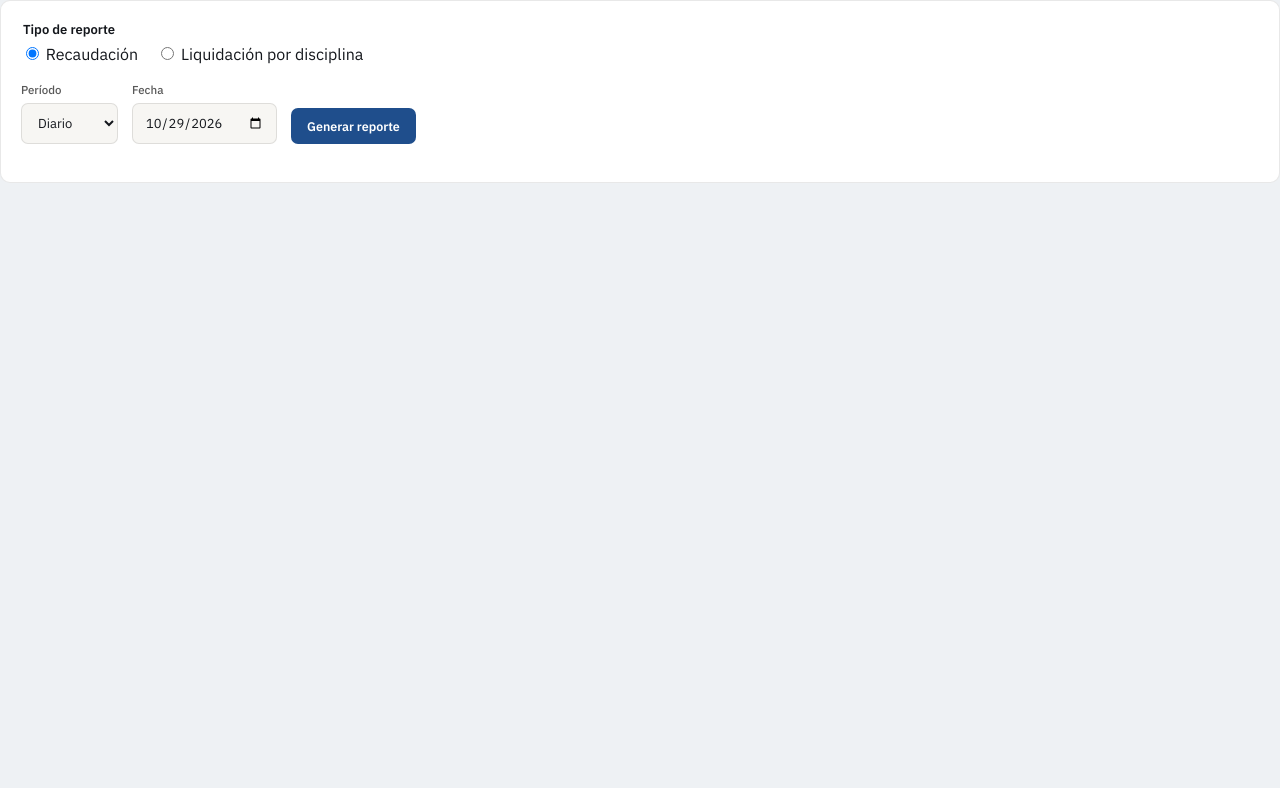
Test: ReportsView: revenue › asks for nothing until the report is generated, then shows the total and its breakdown
Step 1. Type "2026-10-05" into the date field labelled "Fecha" → (204, 124), box [132,103,277,144]
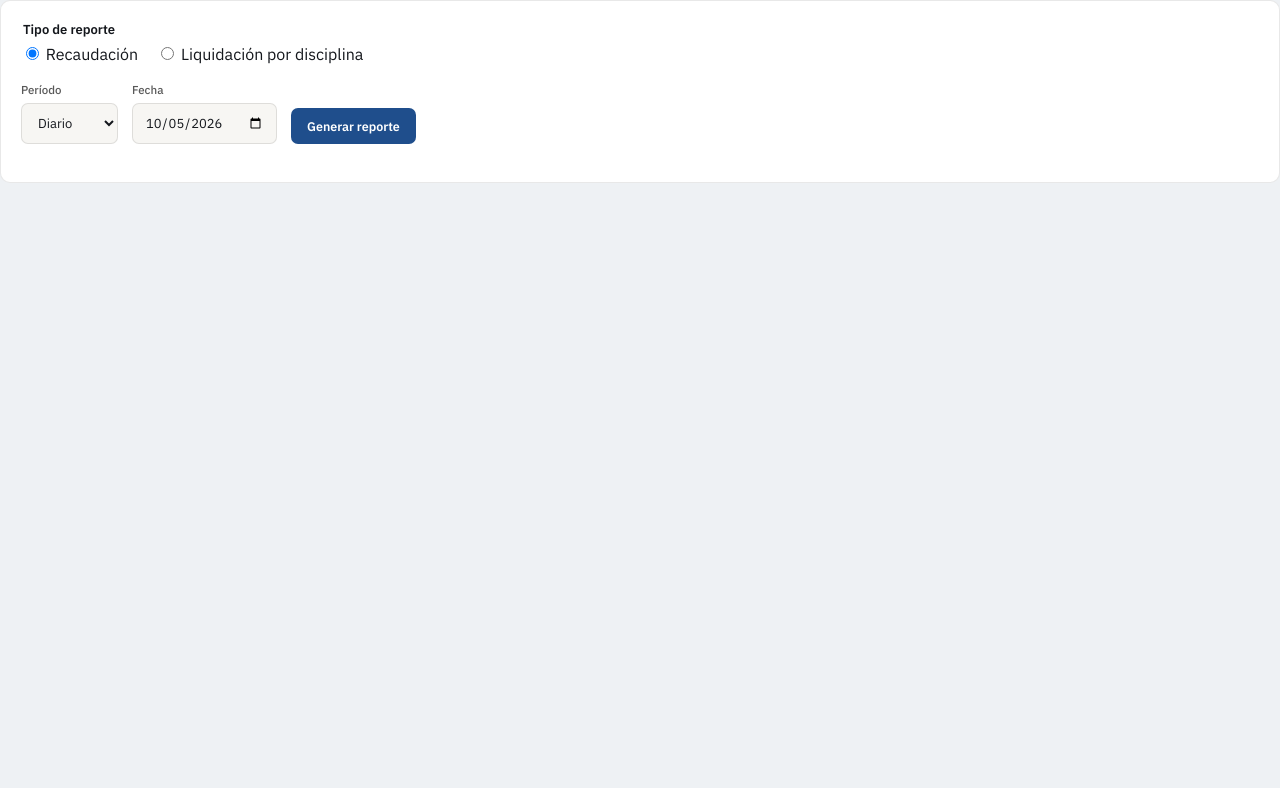
Step 2. Click the button "Generar reporte" → (353, 126), box [291,108,416,144]
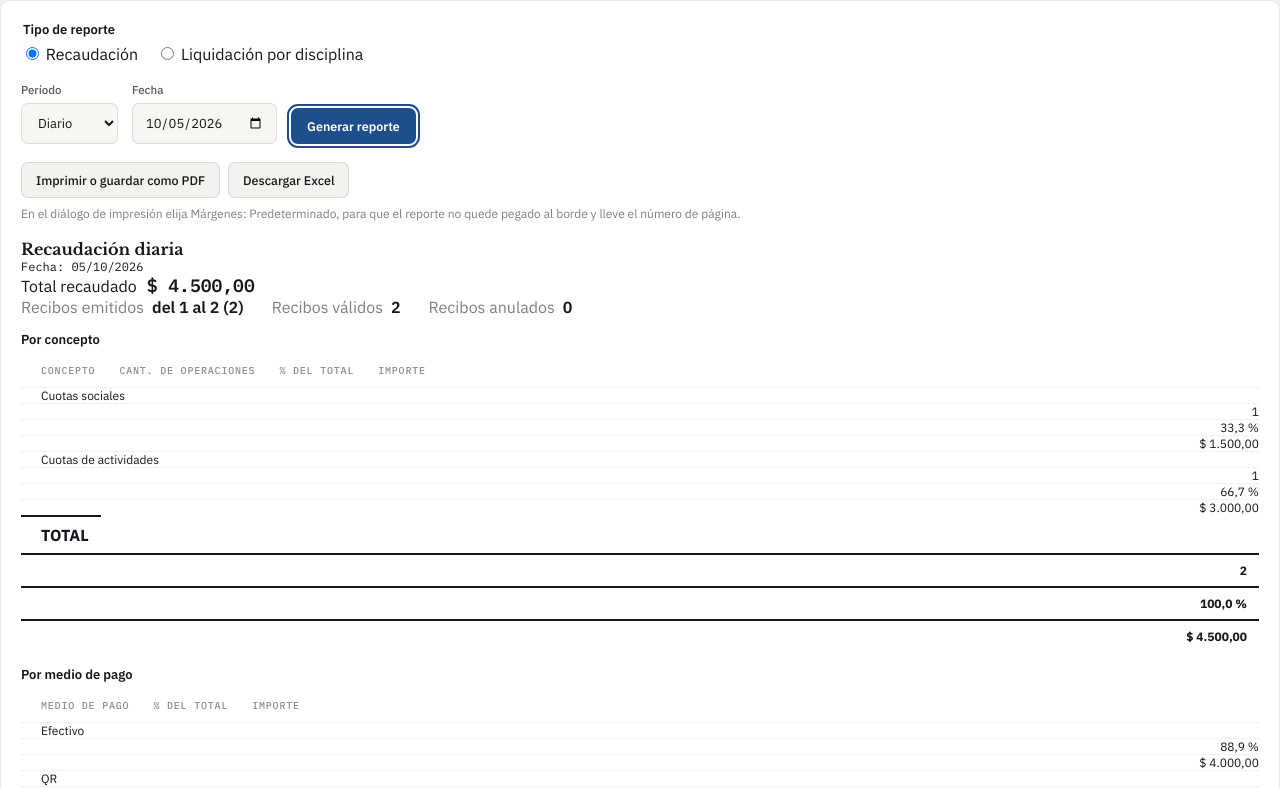
Now the text "Fecha: 05/10/2026" is shown, box [21,259,143,274]
Now the text "Total recaudado" is shown, box [21,276,137,296]
Now the text with test id "revenue-total" shows "$ 4.500", box [147,274,255,297]
